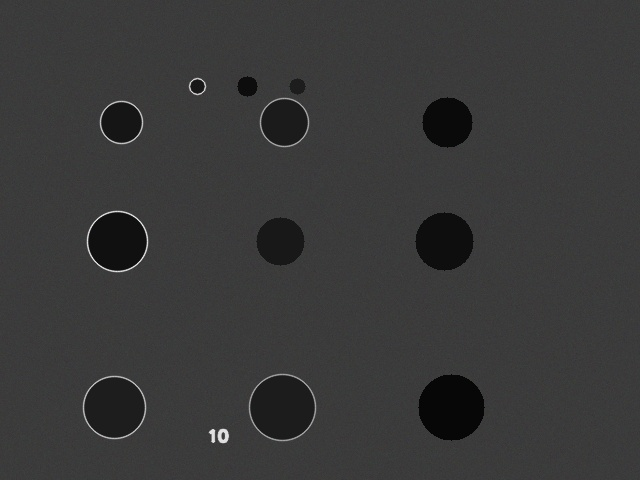hole: (249, 374, 315, 440), (418, 374, 484, 440), (83, 376, 145, 438), (87, 211, 147, 271), (415, 212, 473, 270), (422, 97, 472, 147), (260, 98, 308, 146), (256, 217, 304, 265), (100, 101, 142, 143), (237, 76, 257, 96), (189, 78, 205, 94), (289, 78, 305, 94)
